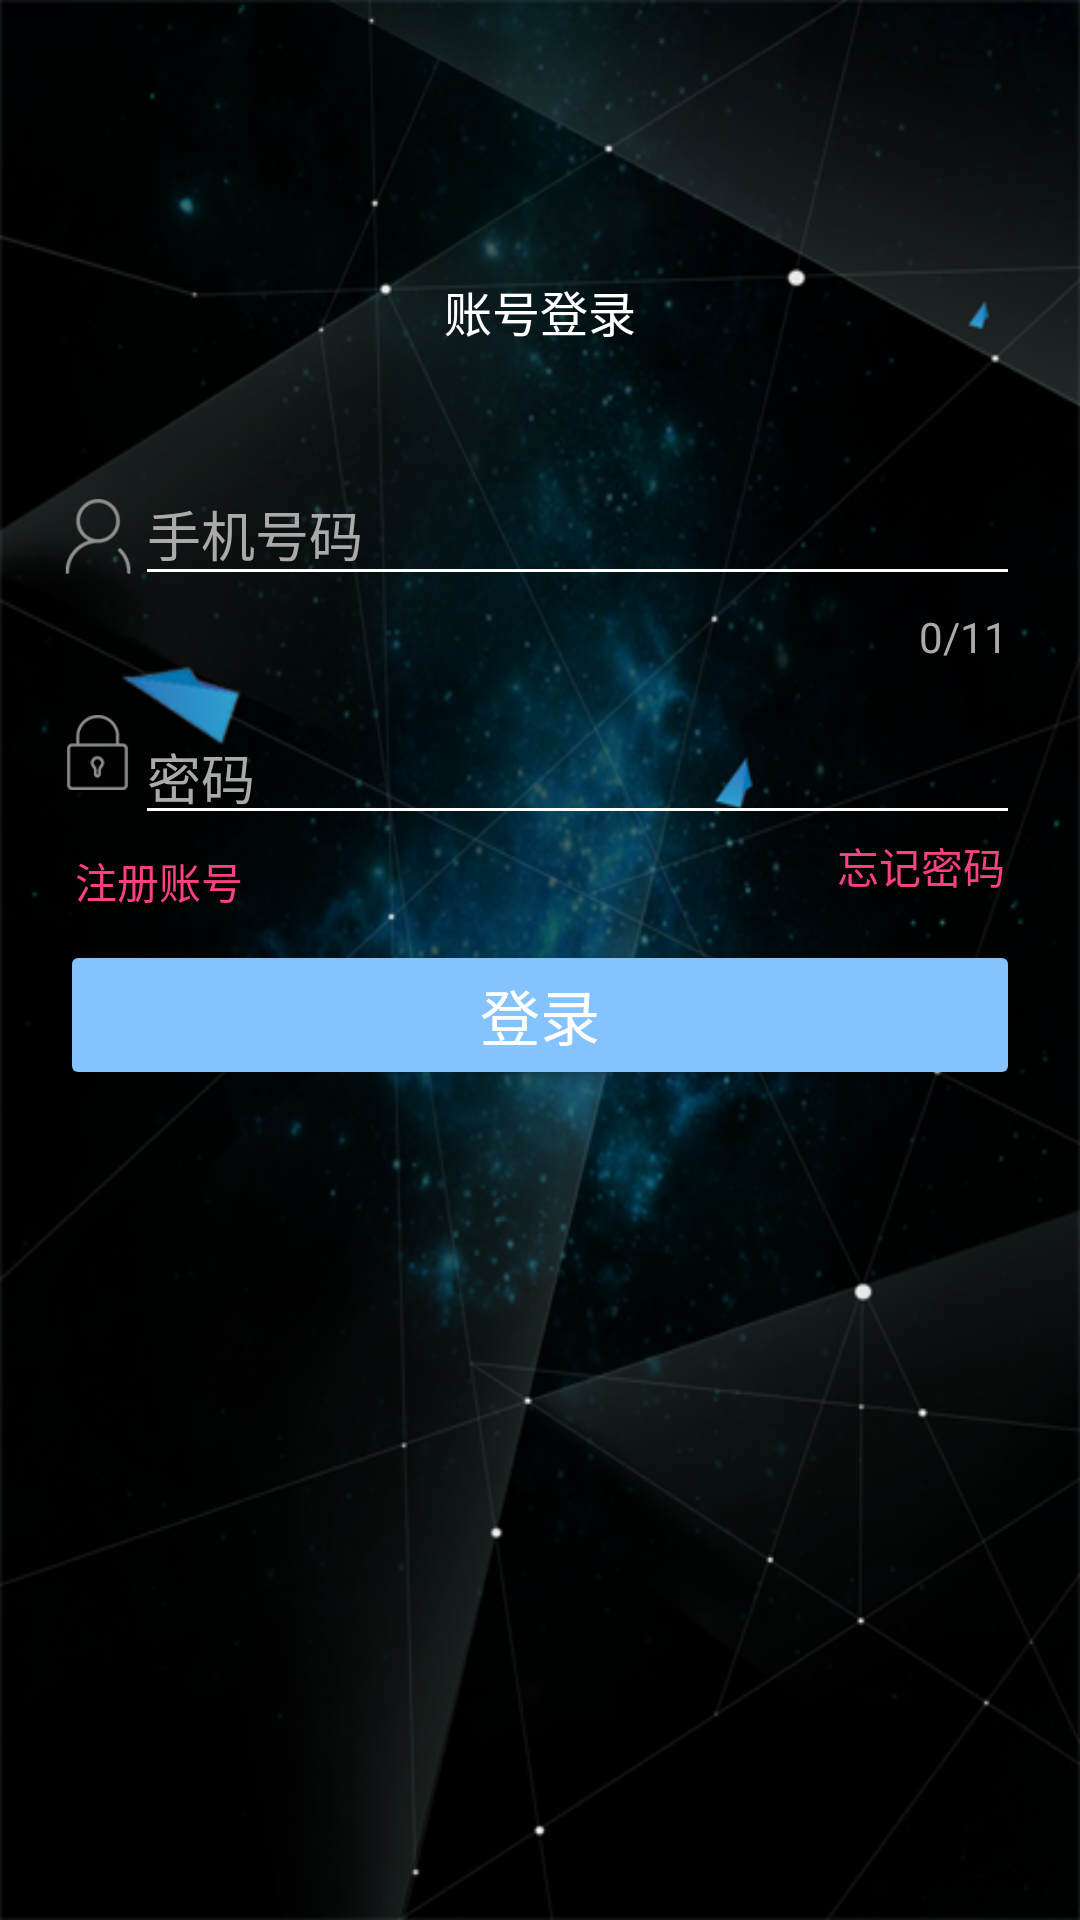

Icons on this 1080px×1920px Android screen, each with its box as {"x1": x1, "y1": y1, "x2": x2, "y2": y2}:
user: {"x1": 66, "y1": 499, "x2": 131, "y2": 574}
